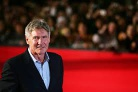male: (21, 20, 55, 61)
